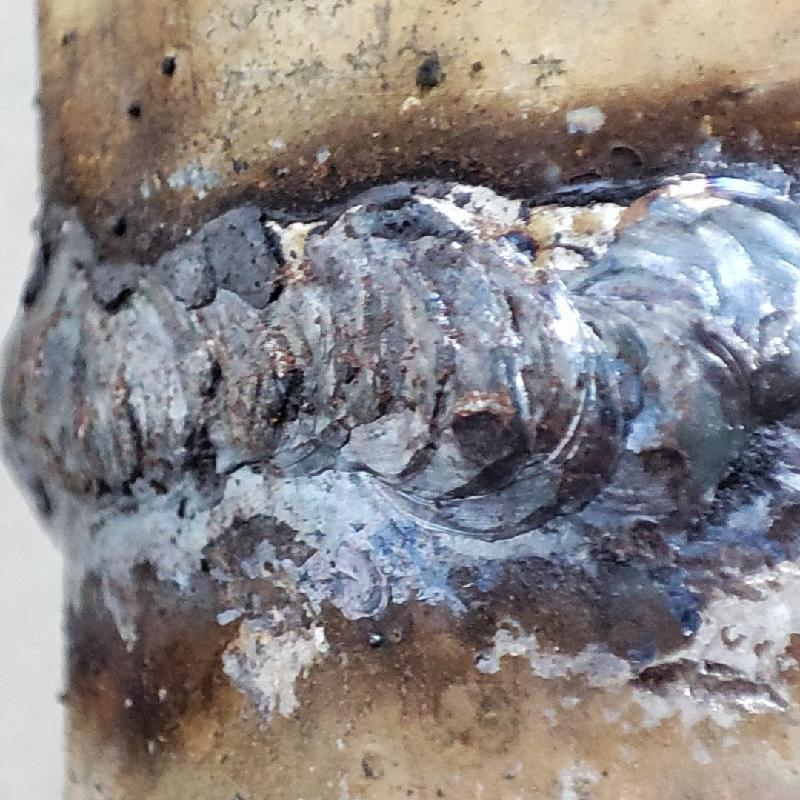good: (1, 185, 799, 547)
